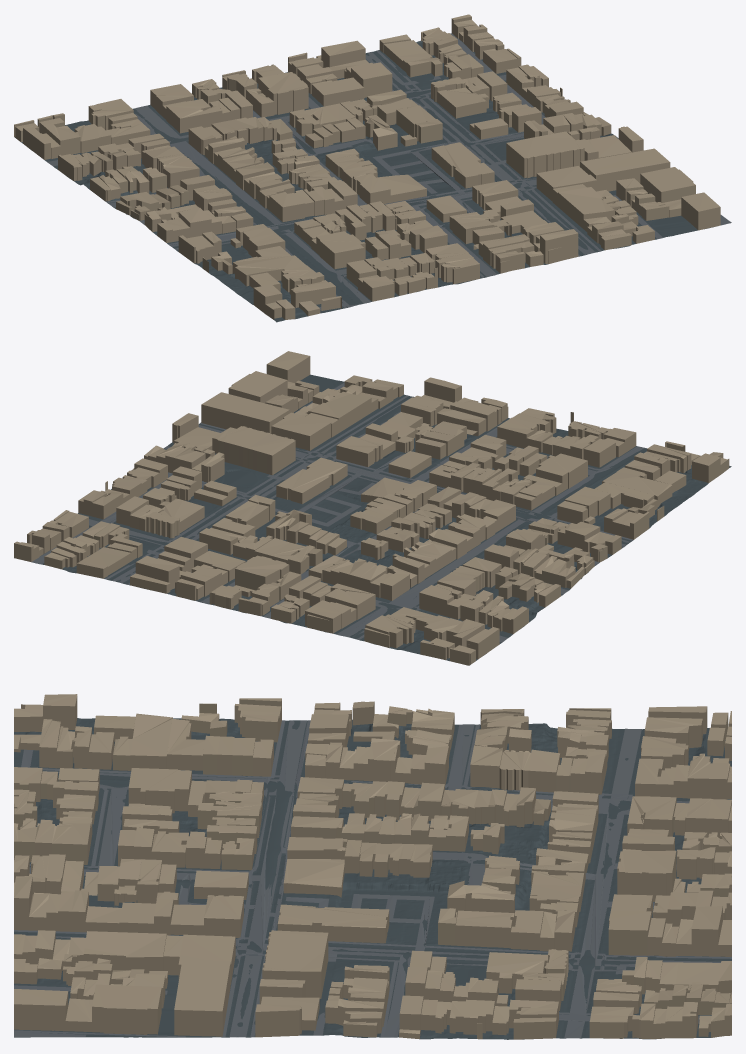
The model's file is epsg26910-1434-10884.lod0.glb.
The picture shows the model from 3 angles, top to bottom: view 1: azimuth 30°, elevation 25°; view 2: azimuth 150°, elevation 25°; view 3: azimuth 270°, elevation 25°; orthographic projection. The views are drawn at different scales.
Visible parts, largest first — view 1: epsg26910-1434-10884-lod0; view 2: epsg26910-1434-10884-lod0; view 3: epsg26910-1434-10884-lod0.
Boxes of the visible parts, x1,y1,x2,y2 form: epsg26910-1434-10884-lod0: [14, 14, 731, 322]; epsg26910-1434-10884-lod0: [14, 351, 731, 665]; epsg26910-1434-10884-lod0: [14, 694, 731, 1039].
Size of the model in its own units: 384 by 25.01 by 384.
